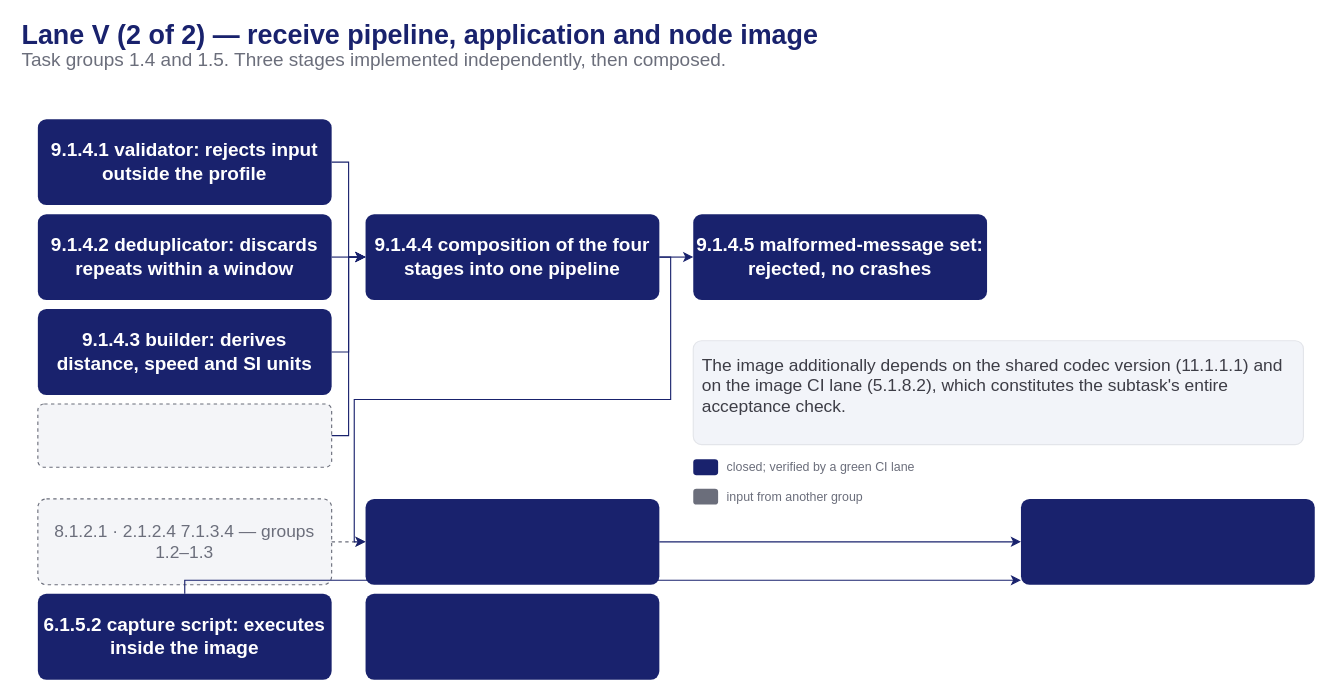
Some shapes in this 1340 by 699 pixel diagram are drawn without their labels. Here are the shapes that lost their labels. From the top down, the centre of each, then its label:
(184,435): 18.1.2.3 event log (group 1.2)
(512,541): 8.1.5.1 the application: composition and start-up
(1167,541): 5.1.5.4 container image and start-up script
(512,636): 6.1.5.3 extraction script: executes on the host
